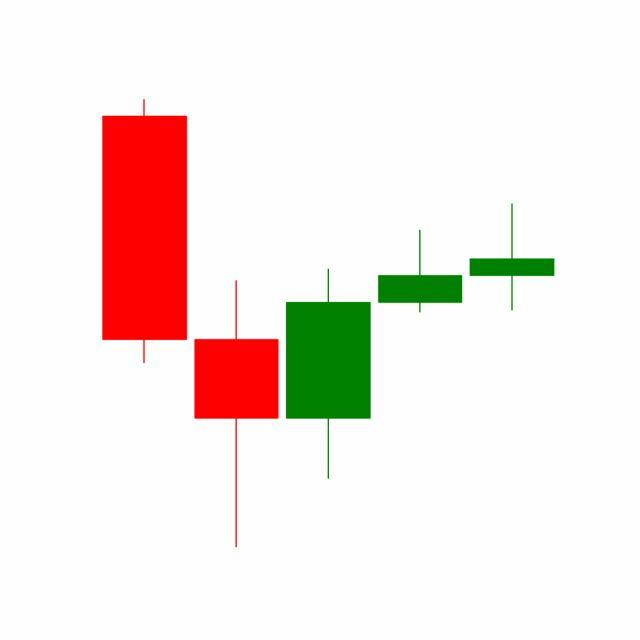Gravestone Doji: (374, 229, 468, 314)
